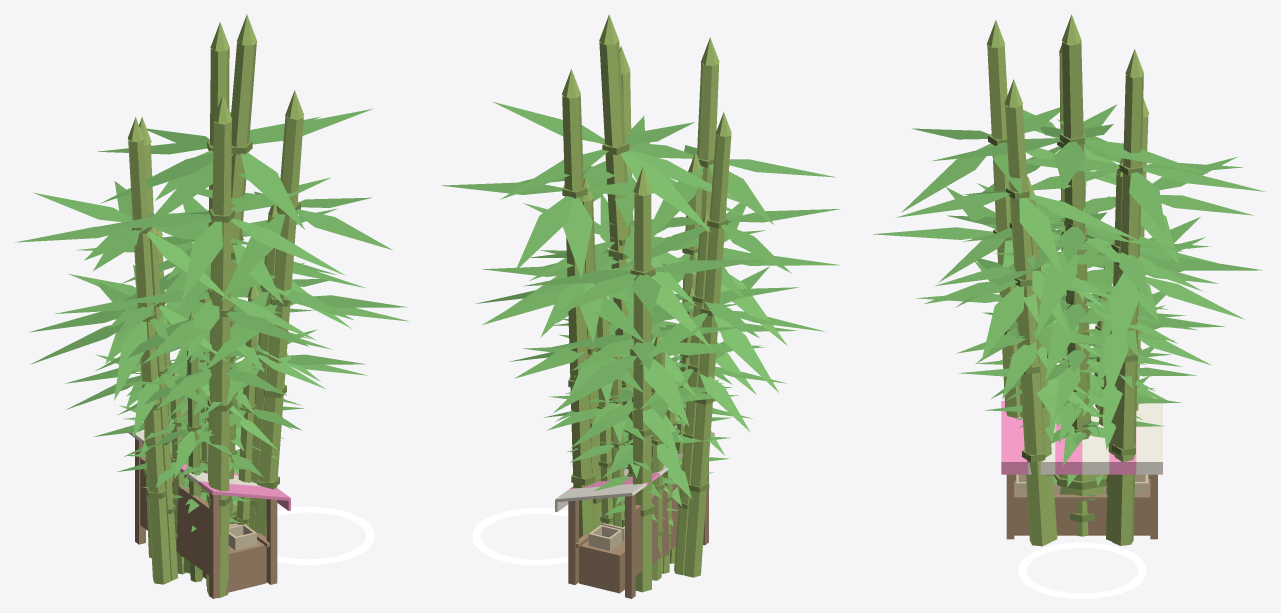
File: BambooAndStall.fbx
3 renders of one model, left to right at view 1: azimuth 30°, elevation 25°; view 2: azimuth 150°, elevation 25°; view 3: azimuth 270°, elevation 25°, orthographic. The views are drawn at different scales.
Visible parts, largest first — view 1: Bamboo8_Leaves, Bamboo8_Bark, Bamboo7_Leaves, SeedStall_Wood, Bamboo6_Leaves, Bamboo7_Bark, Bamboo6_Bark, Bamboo5_Leaves, Bamboo8_Nodes, SeedStall_Glow, Bamboo5_Bark, SeedStall_Awning (+2 smaller); view 2: Bamboo8_Leaves, Bamboo8_Bark, Bamboo7_Leaves, SeedStall_Wood, Bamboo7_Bark, Bamboo6_Leaves, Bamboo6_Bark, Bamboo8_Nodes, Bamboo5_Leaves, SeedStall_Glow, Bamboo5_Bark, SeedStall_Stripe (+3 smaller); view 3: Bamboo8_Leaves, Bamboo8_Bark, Bamboo7_Leaves, Bamboo6_Leaves, SeedStall_Wood, SeedStall_Stripe, Bamboo5_Leaves, Bamboo7_Bark, SeedStall_Awning, SeedStall_Glow, Bamboo8_Nodes, Bamboo4_Leaves (+3 smaller).
Part boxes in pixels (left/top/right/bottom): Bamboo8_Leaves: left=15, top=108, right=409, bottom=400; Bamboo8_Bark: left=127, top=14, right=304, bottom=597; Bamboo7_Leaves: left=55, top=208, right=367, bottom=437; SeedStall_Wood: left=135, top=438, right=277, bottom=598; Bamboo6_Leaves: left=93, top=302, right=325, bottom=478; Bamboo7_Bark: left=149, top=150, right=278, bottom=586; Bamboo6_Bark: left=162, top=286, right=259, bottom=582; Bamboo5_Leaves: left=117, top=352, right=288, bottom=495; Bamboo8_Nodes: left=131, top=140, right=300, bottom=506; SeedStall_Glow: left=277, top=506, right=374, bottom=564; Bamboo5_Bark: left=170, top=359, right=237, bottom=574; SeedStall_Awning: left=142, top=440, right=290, bottom=510; Bamboo8_Leaves: left=441, top=101, right=840, bottom=426; Bamboo8_Bark: left=562, top=14, right=731, bottom=592; Bamboo7_Leaves: left=482, top=203, right=798, bottom=458; SeedStall_Wood: left=568, top=461, right=708, bottom=598; Bamboo7_Bark: left=583, top=152, right=709, bottom=575; Bamboo6_Leaves: left=523, top=321, right=761, bottom=486; Bamboo6_Bark: left=597, top=287, right=693, bottom=580; Bamboo8_Nodes: left=562, top=141, right=728, bottom=516; Bamboo5_Leaves: left=549, top=387, right=731, bottom=498; SeedStall_Glow: left=472, top=508, right=568, bottom=565; Bamboo5_Bark: left=610, top=354, right=675, bottom=573; SeedStall_Stripe: left=555, top=465, right=668, bottom=512; Bamboo8_Leaves: left=873, top=104, right=1265, bottom=363; Bamboo8_Bark: left=987, top=14, right=1149, bottom=546; Bamboo7_Leaves: left=916, top=196, right=1225, bottom=400; Bamboo6_Leaves: left=958, top=293, right=1197, bottom=431; SeedStall_Wood: left=1006, top=474, right=1157, bottom=539; SeedStall_Stripe: left=1028, top=403, right=1162, bottom=474; Bamboo5_Leaves: left=985, top=343, right=1182, bottom=449; Bamboo7_Bark: left=1009, top=158, right=1123, bottom=541; SeedStall_Awning: left=1001, top=401, right=1136, bottom=474; SeedStall_Glow: left=1018, top=542, right=1146, bottom=598; Bamboo8_Nodes: left=988, top=131, right=1142, bottom=461; Bamboo4_Leaves: left=1016, top=387, right=1164, bottom=465.
Bounding box in the file's own units: 29.07 × 45.6 × 30.85.
